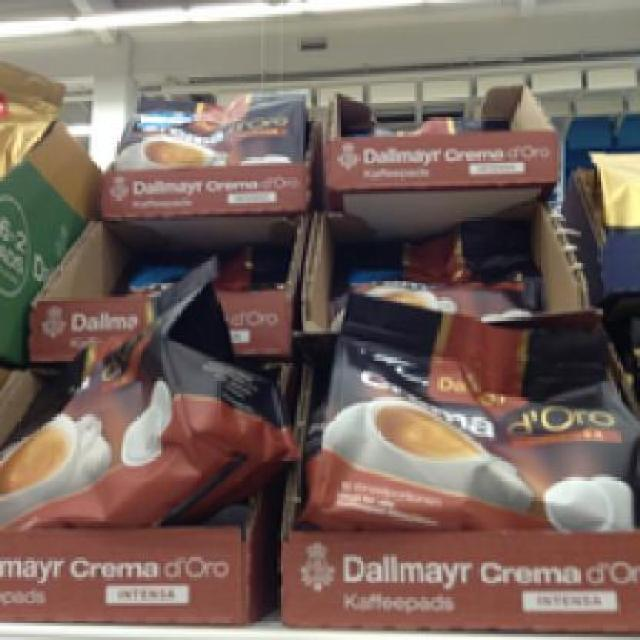Coffee: (297, 286, 634, 534), (0, 253, 295, 529), (114, 80, 300, 160)
